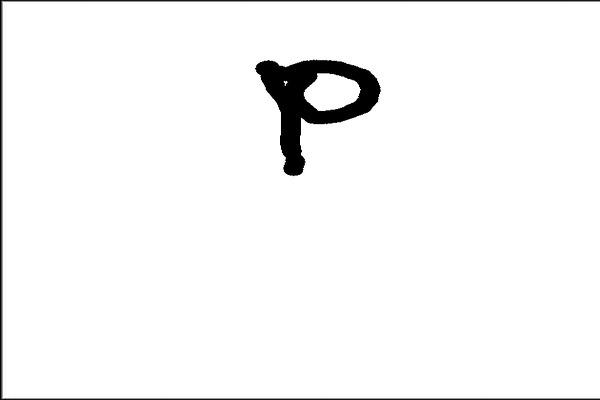P: (251, 46, 385, 194)
